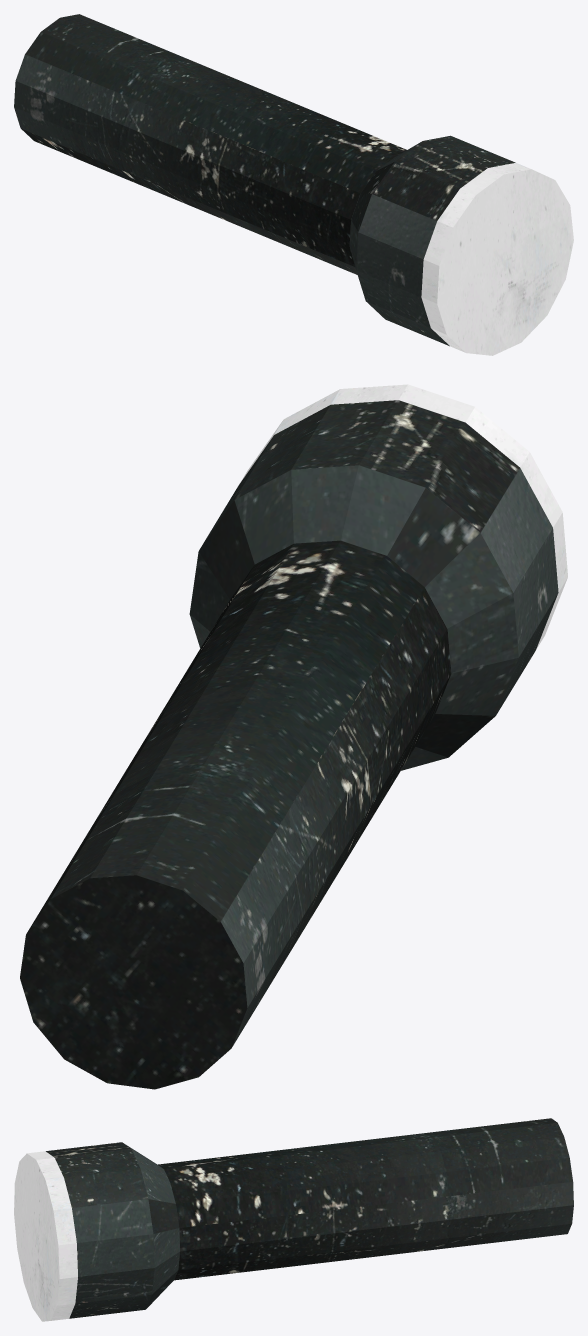
File: dvloper_-_flashlight_official_model.glb
The picture shows the model from 3 angles, top to bottom: view 1: azimuth 30°, elevation 25°; view 2: azimuth 150°, elevation 25°; view 3: azimuth 270°, elevation 25°; orthographic projection. The views are drawn at different scales.
Visible parts, largest first — view 1: Object_3, Object_2; view 2: Object_3, Object_2; view 3: Object_3, Object_2.
Boxes of the visible parts, <box> form: Object_3: <box>14,14,515,346</box>; Object_2: <box>421,163,573,355</box>; Object_3: <box>20,400,558,1089</box>; Object_2: <box>240,384,567,649</box>; Object_3: <box>46,1118,573,1318</box>; Object_2: <box>14,1151,77,1321</box>.
Size of the model in its own units: 0.3411 by 0.2038 by 0.6733.
2 materials, 2 textured.
